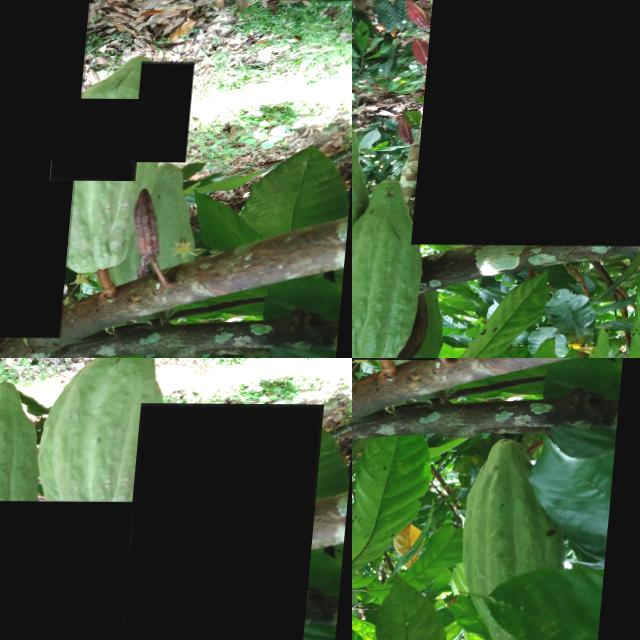Monilia: (124, 402, 327, 640), (0, 0, 94, 337), (0, 500, 202, 640)
Sana: (419, 0, 640, 245), (56, 98, 145, 180), (137, 61, 197, 161)
